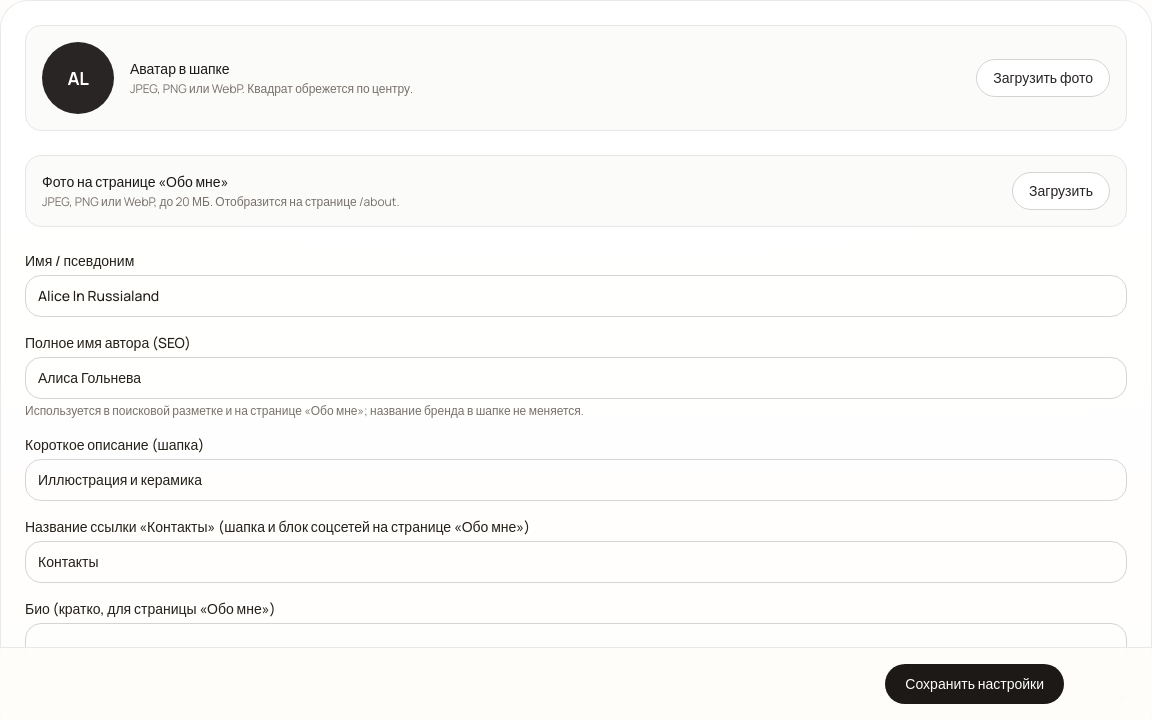
Test: настройки сайта › сохраняет общие настройки без полей режима «не выбирай»
This screenshot has width=1152, height=720.
Replace the text in the field labelled "Имя / псевдоним" with "Новое имя" at [576, 296], box [25,275,1127,317]
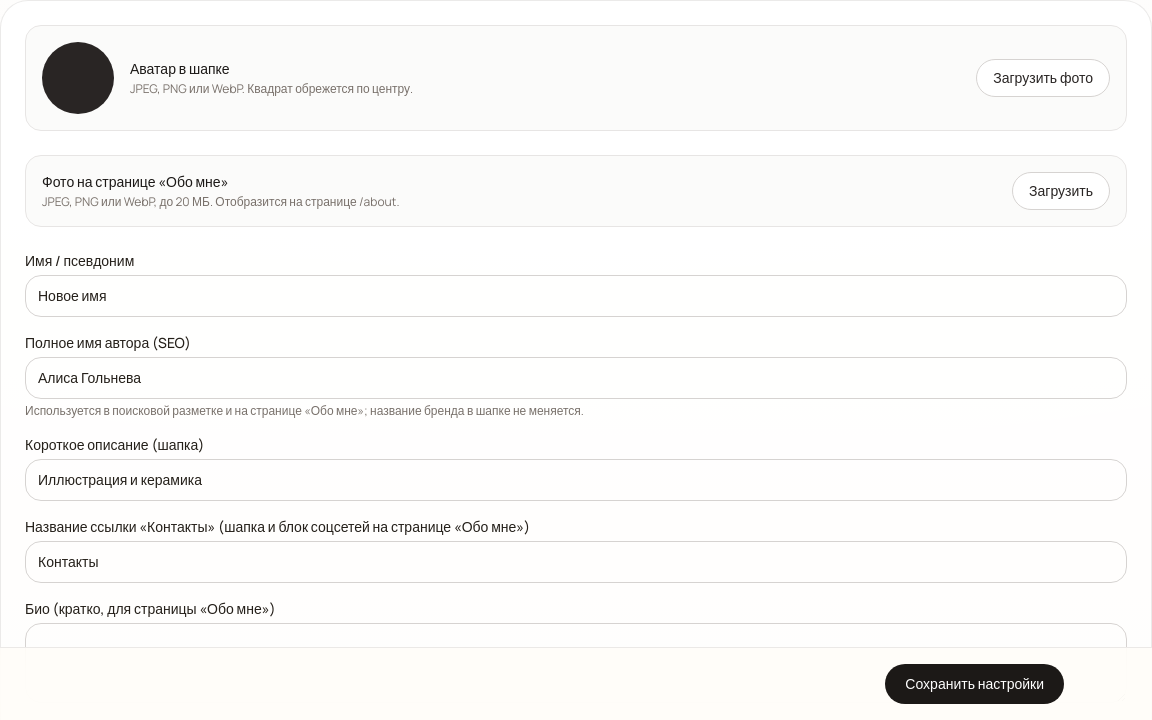
Click the button "Сохранить настройки" at [975, 684], box [885,664,1064,704]
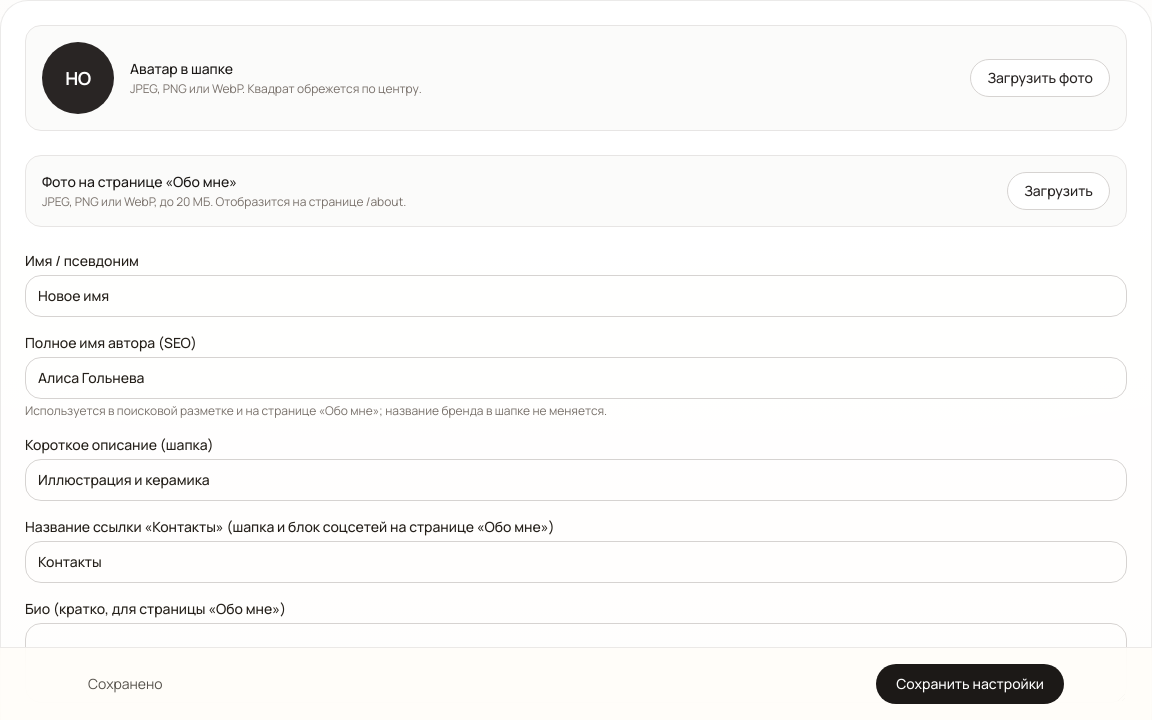
Expected: the message reads "Сохранено", [88,674,163,693]
